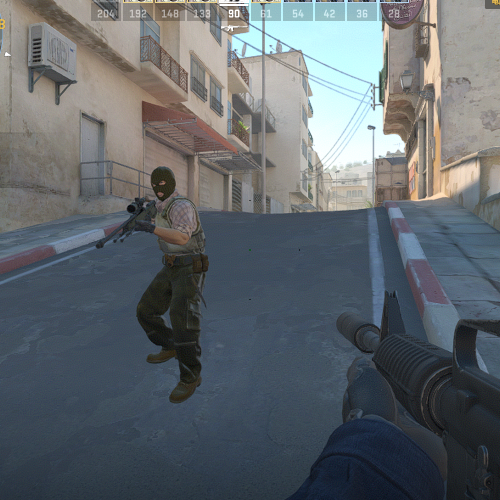t_body: (137, 165, 208, 401)
t_head: (149, 165, 177, 199)
